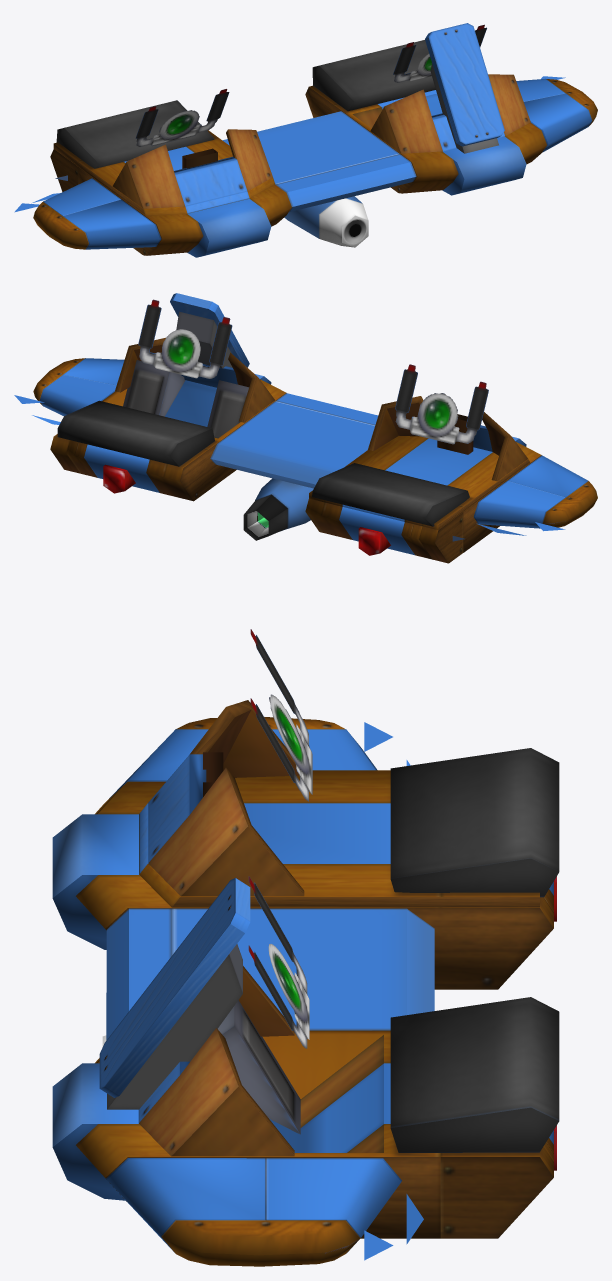
Rendered from twin_practice00.glb.
The picture shows the model from 3 angles, top to bottom: view 1: azimuth 30°, elevation 25°; view 2: azimuth 150°, elevation 25°; view 3: azimuth 270°, elevation 25°; orthographic projection. The views are drawn at different scales.
Visible parts, largest first — view 1: twin_practice00; view 2: twin_practice00; view 3: twin_practice00.
Part boxes in pixels (x1,y1,x2,y2): twin_practice00: (14, 23, 597, 257); twin_practice00: (14, 293, 597, 563); twin_practice00: (52, 629, 559, 1266).
Size of the model in its own units: 3.24 by 0.9999 by 1.29.
4 materials, 4 textured.
